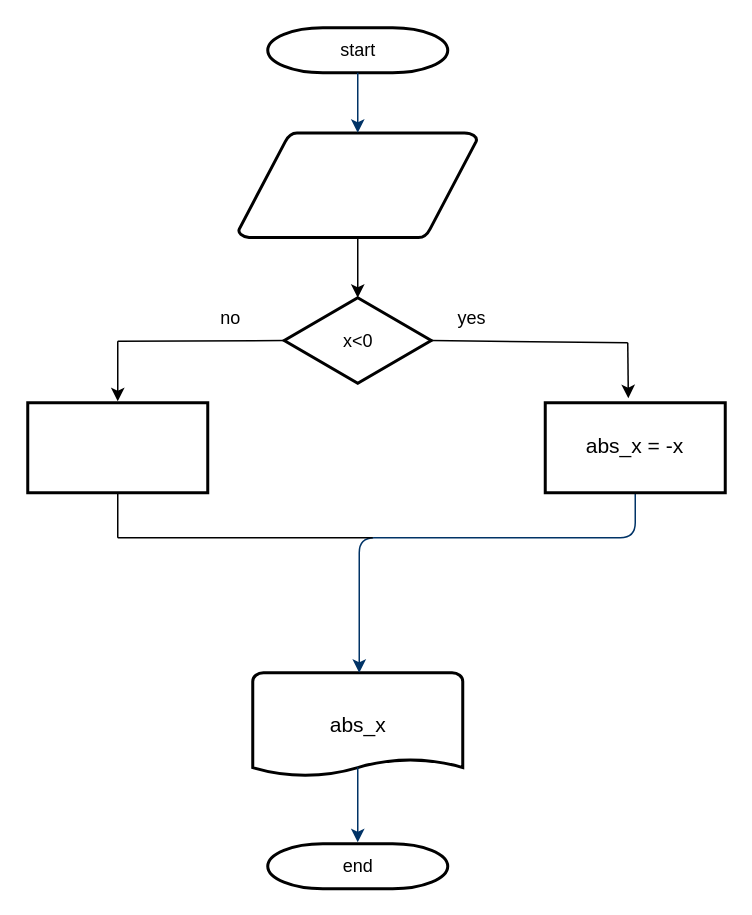
Image size: 752x915. Some labels were removed from this diagram. Each missing label, with the box of its shape:
abs_x = x: (26, 400, 208, 494)
Real number X: (236, 130, 478, 238)
